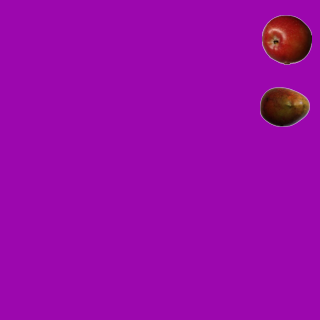Apple Braeburn: (261, 14, 311, 64)
Mango Red: (259, 81, 309, 131)
